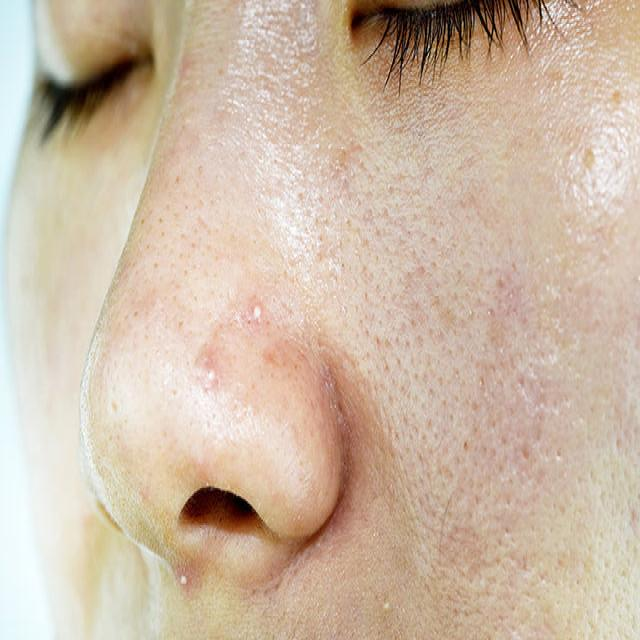Englarged-Pores: (159, 104, 493, 480)
Oily-Skin: (42, 27, 596, 632)
